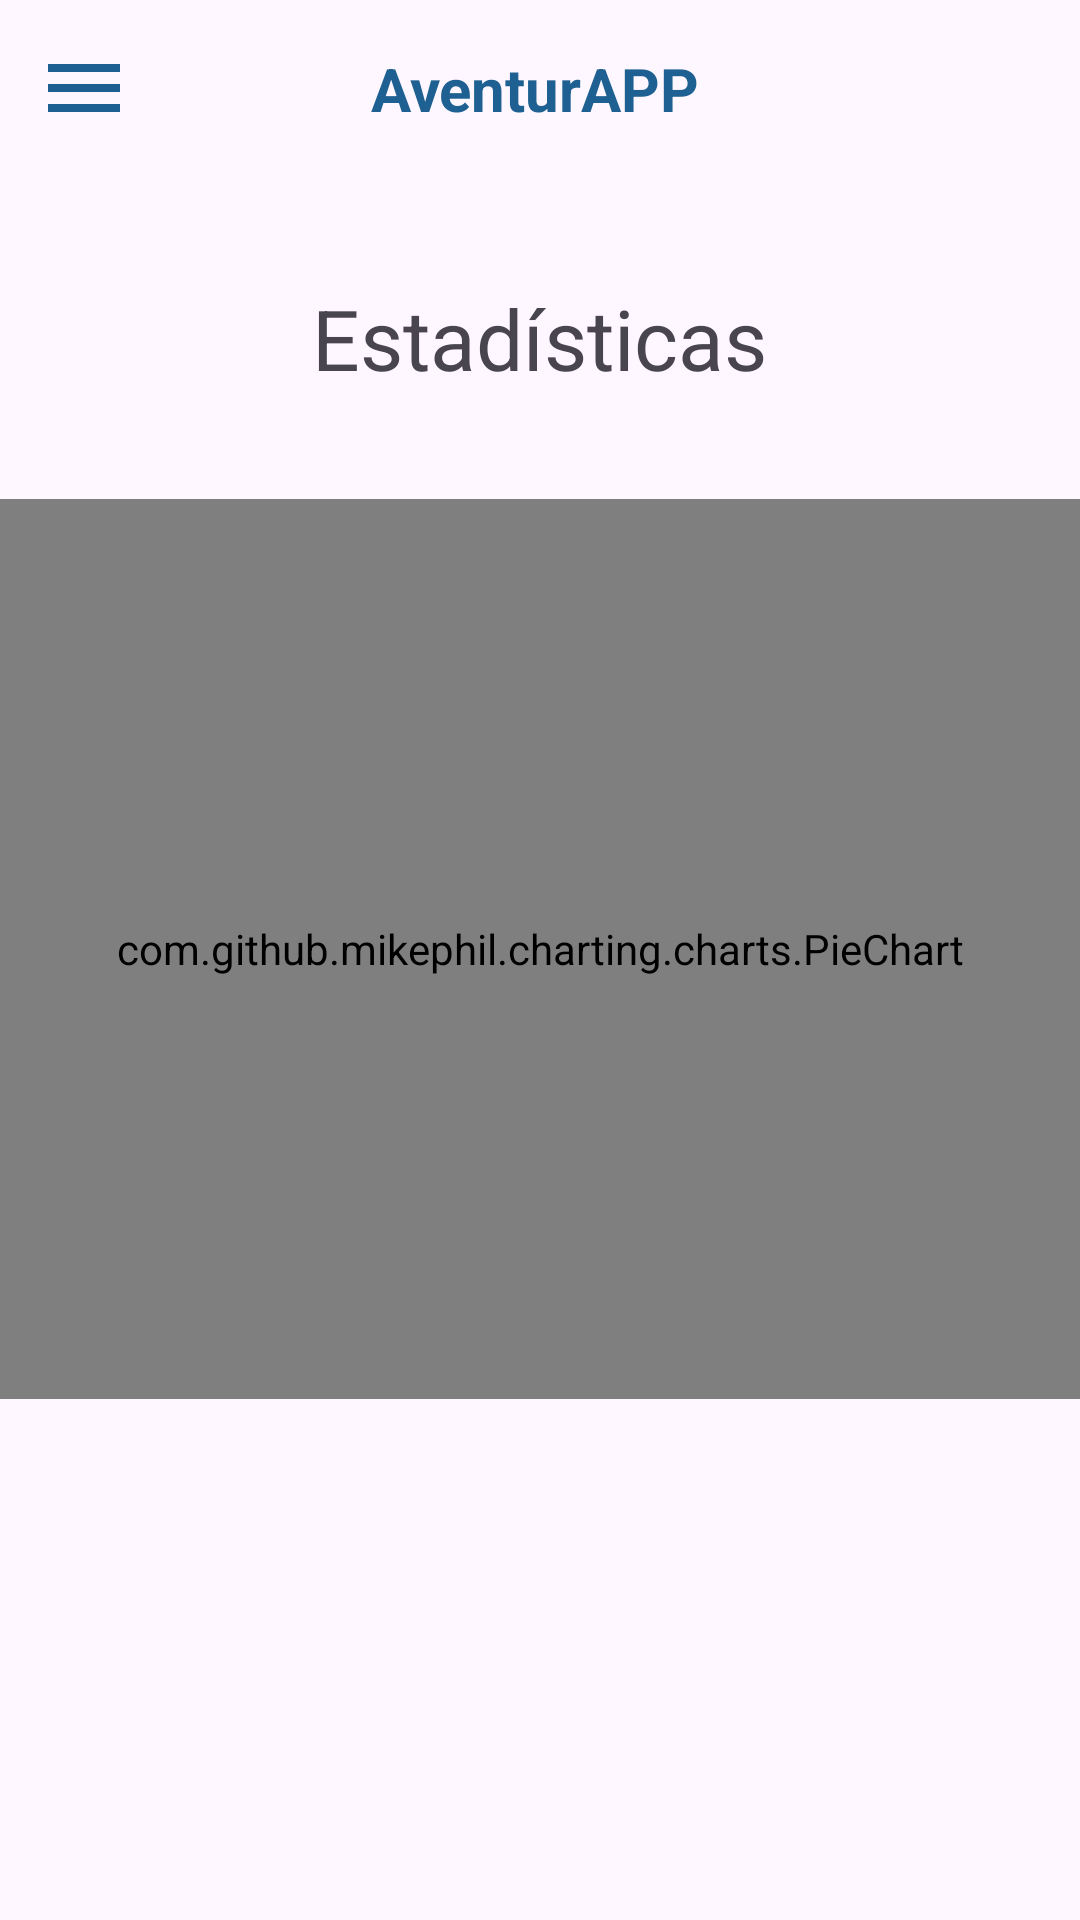

Icon bounding boxes for this 1080 x 1920 phone screenshot, format box=[x1, y1, x2, y2]:
menu: box=[48, 64, 120, 112]
